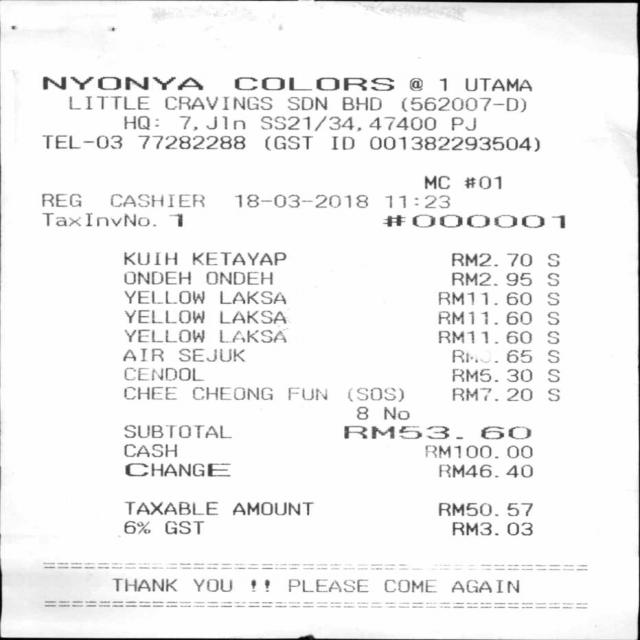text: (382, 214, 564, 228), (368, 136, 537, 151), (42, 76, 202, 90), (234, 76, 394, 90), (399, 96, 523, 111), (234, 194, 367, 207), (122, 424, 232, 438), (137, 134, 244, 148), (124, 462, 230, 476), (259, 115, 360, 129), (342, 426, 459, 438), (425, 444, 532, 457), (163, 96, 269, 109), (40, 213, 154, 225), (438, 502, 532, 516), (192, 250, 285, 264), (450, 520, 531, 536), (437, 291, 529, 305), (109, 193, 203, 206), (437, 310, 531, 323), (438, 464, 532, 477), (122, 501, 216, 514), (190, 386, 291, 398), (122, 328, 203, 342), (438, 330, 532, 342), (67, 95, 147, 109), (232, 500, 312, 514), (287, 579, 367, 593), (450, 252, 529, 266), (450, 271, 529, 285), (122, 290, 203, 303), (122, 309, 203, 322), (40, 135, 119, 148), (450, 349, 529, 362), (450, 368, 529, 381), (450, 386, 529, 399), (121, 368, 202, 380), (463, 77, 531, 91), (450, 579, 518, 593), (217, 328, 284, 342), (206, 270, 272, 284), (111, 577, 177, 591), (219, 290, 285, 303), (219, 310, 285, 323), (178, 348, 244, 361), (374, 116, 434, 130), (384, 194, 448, 207), (123, 271, 189, 283), (348, 387, 402, 401), (384, 579, 436, 593), (122, 251, 174, 264), (122, 443, 174, 456), (264, 136, 312, 150), (123, 386, 175, 398), (481, 426, 530, 438), (192, 578, 232, 592), (164, 520, 203, 534), (342, 96, 380, 110), (121, 348, 161, 361), (287, 96, 326, 109), (41, 193, 80, 206), (206, 115, 244, 128), (121, 115, 156, 129), (464, 176, 500, 188), (291, 387, 326, 399), (422, 174, 447, 188), (449, 116, 473, 130), (383, 406, 408, 419), (121, 520, 148, 532), (331, 136, 353, 150), (180, 115, 197, 129), (250, 579, 268, 591), (406, 77, 421, 91), (170, 213, 182, 226), (545, 253, 557, 266), (545, 311, 557, 324), (545, 349, 557, 362), (545, 368, 557, 381), (545, 388, 557, 400), (546, 272, 556, 286), (546, 292, 556, 304), (546, 331, 556, 343), (356, 406, 366, 418), (438, 78, 447, 90)
